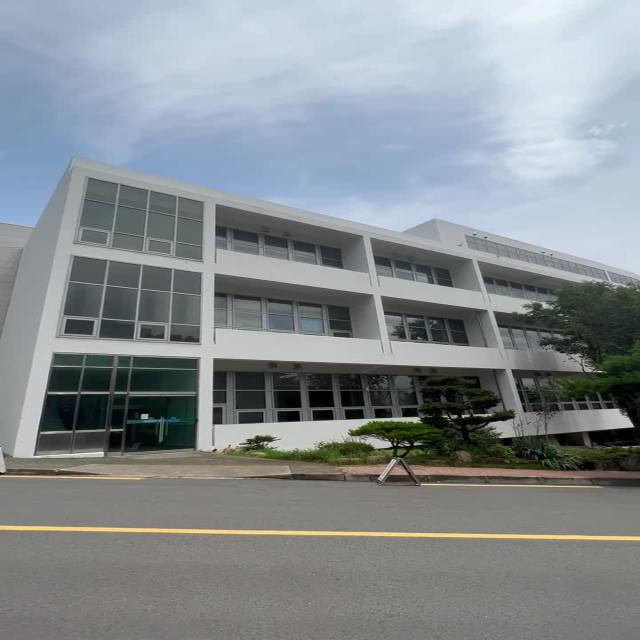building: (30, 194, 491, 410)
